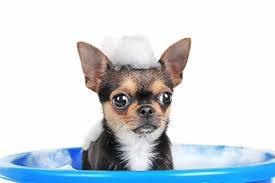chihuahua: (59, 27, 202, 161)
